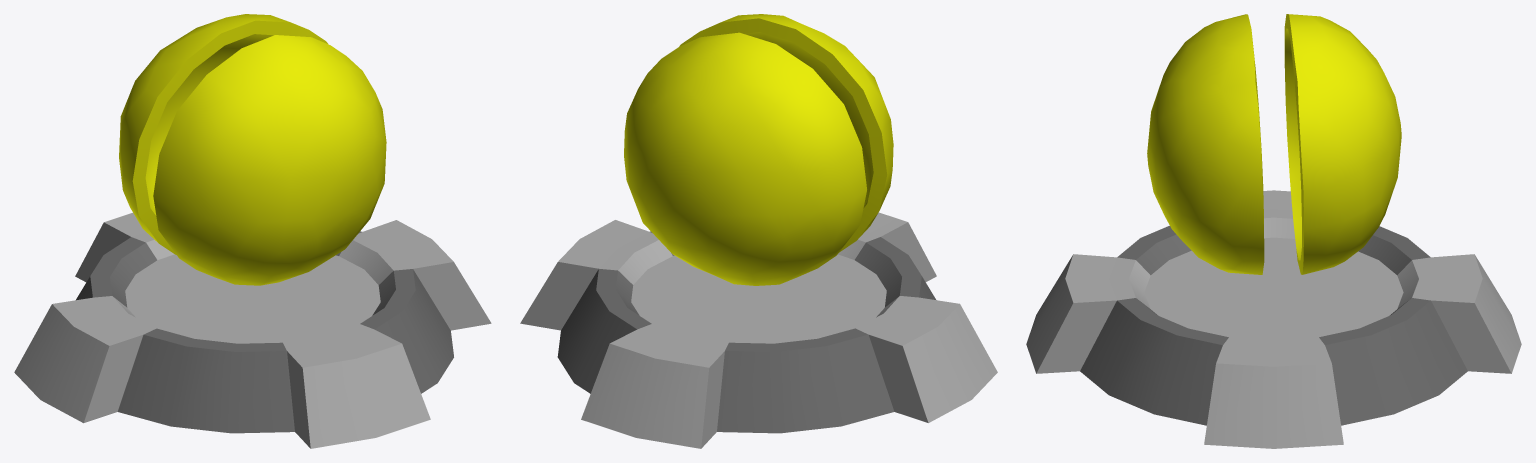
Rendered from shield.fbx.
3 views of the same model, side by side, from view 1: azimuth 30°, elevation 25°; view 2: azimuth 150°, elevation 25°; view 3: azimuth 270°, elevation 25° (orthographic).
Visible parts, largest first — view 1: pad2, shield; view 2: pad2, shield; view 3: pad2, shield.
Boxes of the visible parts, bbox=[...] form: pad2: bbox=[14, 212, 491, 448]; shield: bbox=[119, 14, 386, 285]; pad2: bbox=[520, 212, 997, 448]; shield: bbox=[624, 14, 893, 285]; pad2: bbox=[1026, 190, 1521, 448]; shield: bbox=[1147, 14, 1401, 274].
Bounding box in the file's own units: 4.12 × 2.95 × 4.12.
